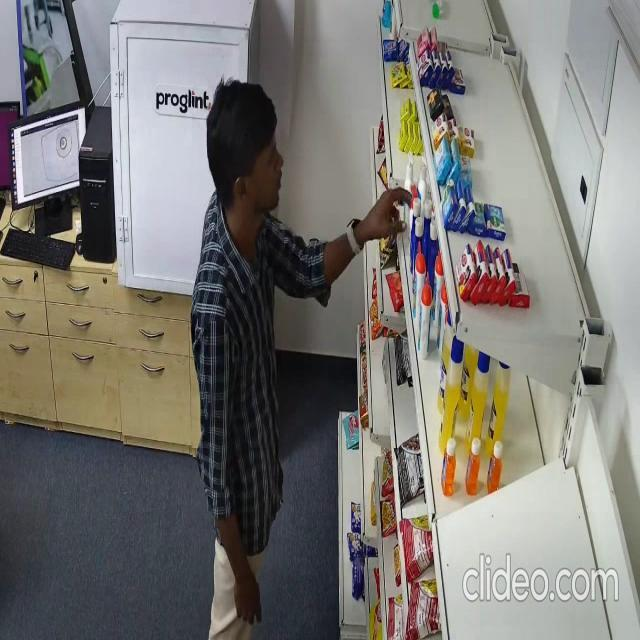normal: (190, 68, 411, 640)
